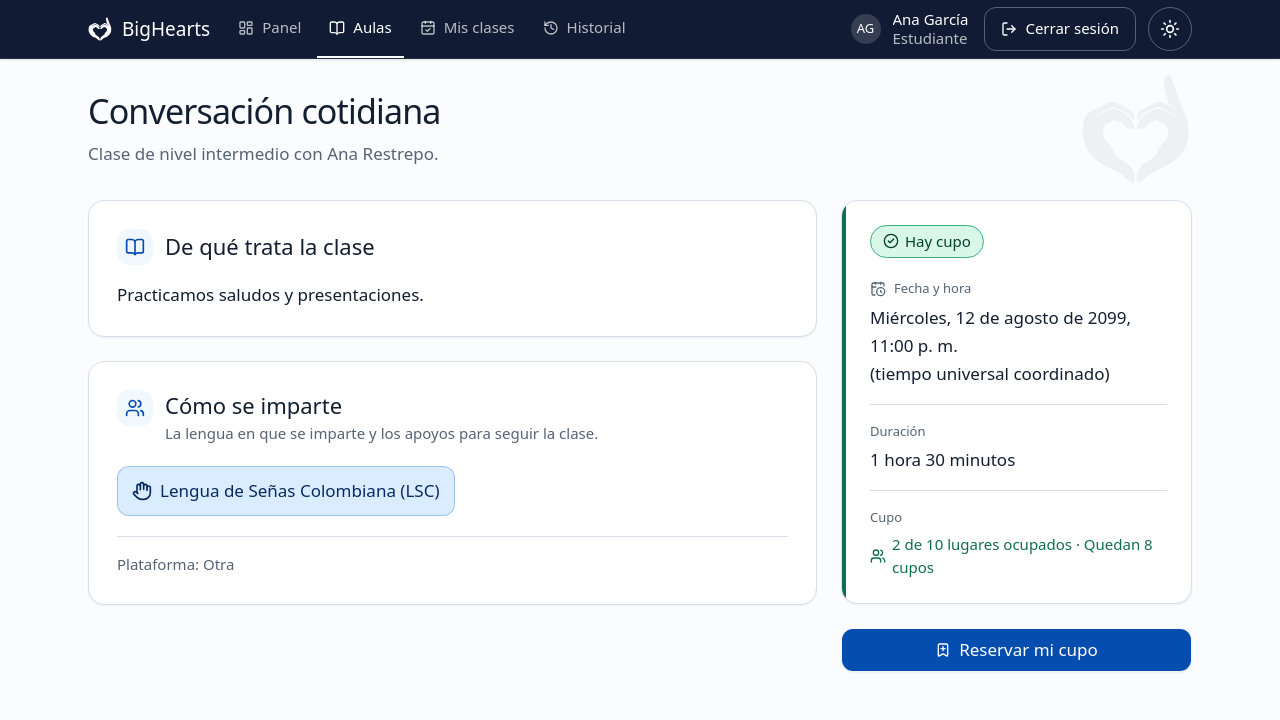
AulaDetallePage — reservar un cupo (HU-301) › BOOKING_ALREADY_EXISTS muestra su mensaje literal
Click the button "Reservar mi cupo".
click(1016, 650)  # box x1=841 y1=628 x2=1192 y2=672
(page scrolled)
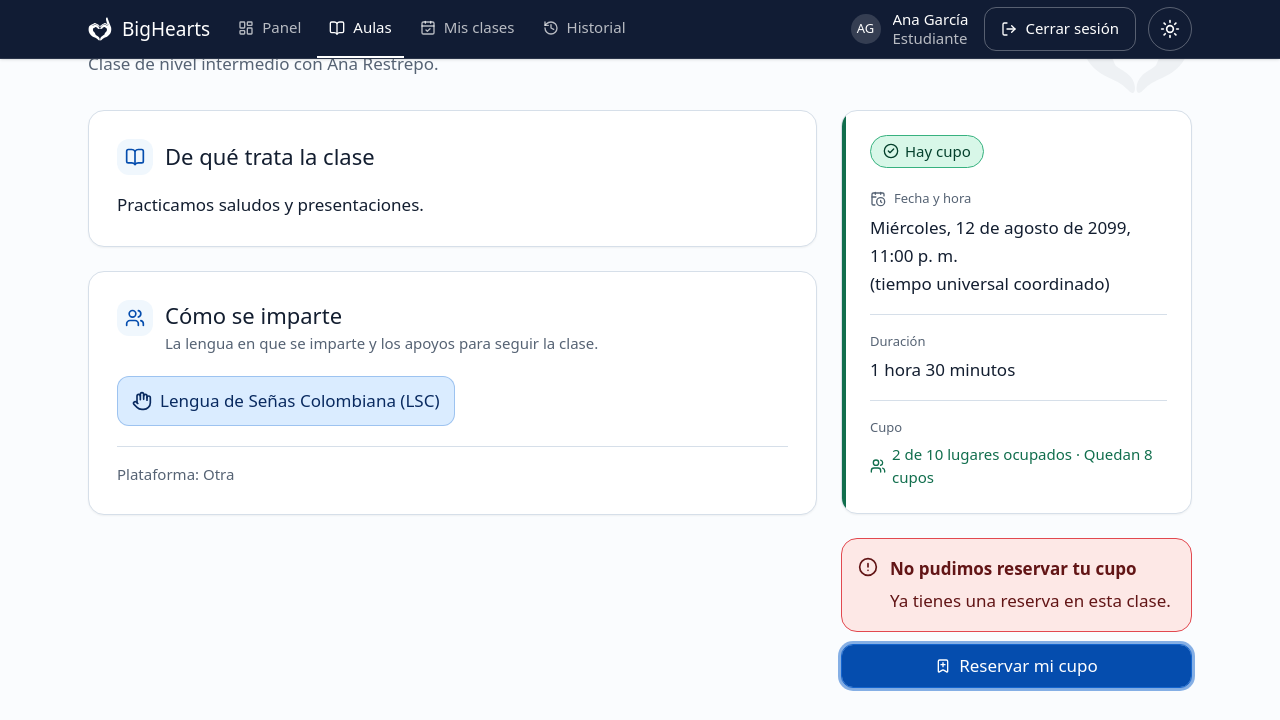
Check: the button "Reservar mi cupo" is shown, box x1=841 y1=644 x2=1192 y2=688
Check: the text "Ya tienes una reserva en esta clase." is shown, box x1=890 y1=587 x2=1175 y2=615
